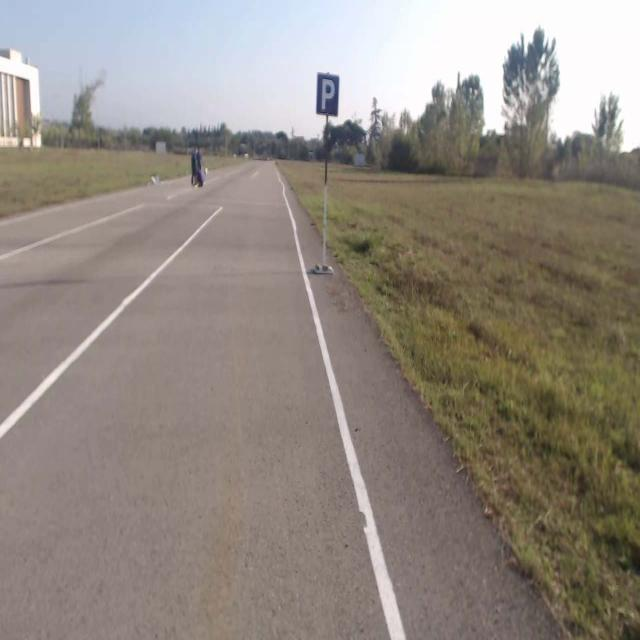park: (317, 72, 339, 116)
